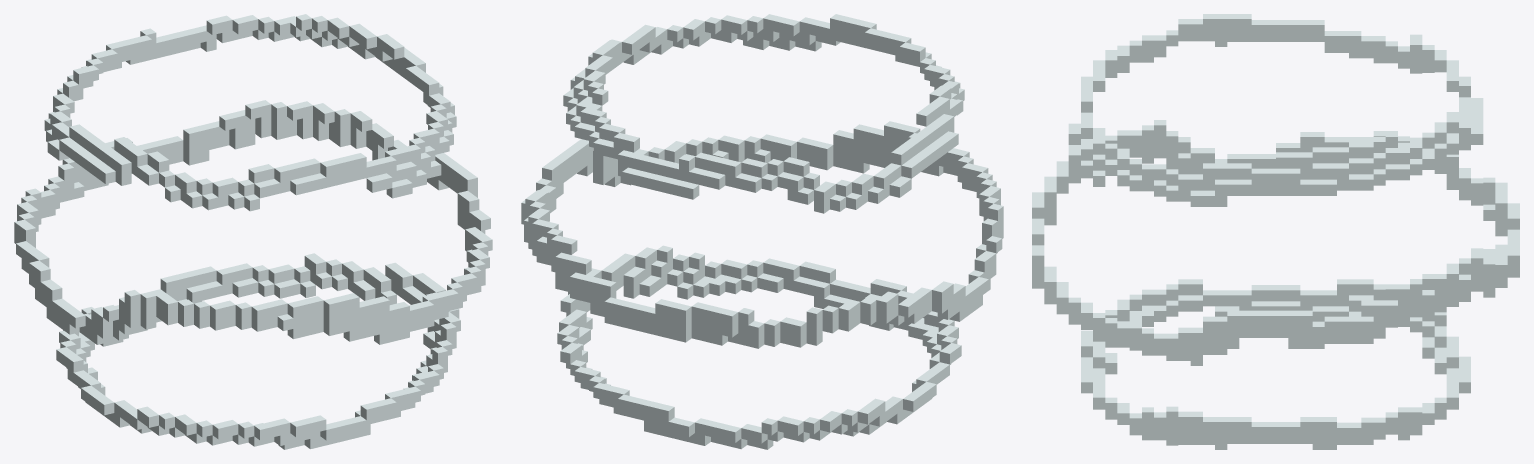
The model's file is Ana_Branca#ebf8f9.dae.
3 renders of one model, left to right at view 1: azimuth 30°, elevation 25°; view 2: azimuth 150°, elevation 25°; view 3: azimuth 270°, elevation 25°, orthographic. The views are drawn at different scales.
Parts seen in each view (by area): view 1: Ana_Branca#ebf8f9-obj.vox; view 2: Ana_Branca#ebf8f9-obj.vox; view 3: Ana_Branca#ebf8f9-obj.vox.
Part boxes in pixels (x1,y1,x2,y2): Ana_Branca#ebf8f9-obj.vox: [14, 14, 492, 449]; Ana_Branca#ebf8f9-obj.vox: [521, 14, 1003, 449]; Ana_Branca#ebf8f9-obj.vox: [1032, 14, 1519, 449].
Bounding box in the file's own units: 4 × 4 × 2.8.
